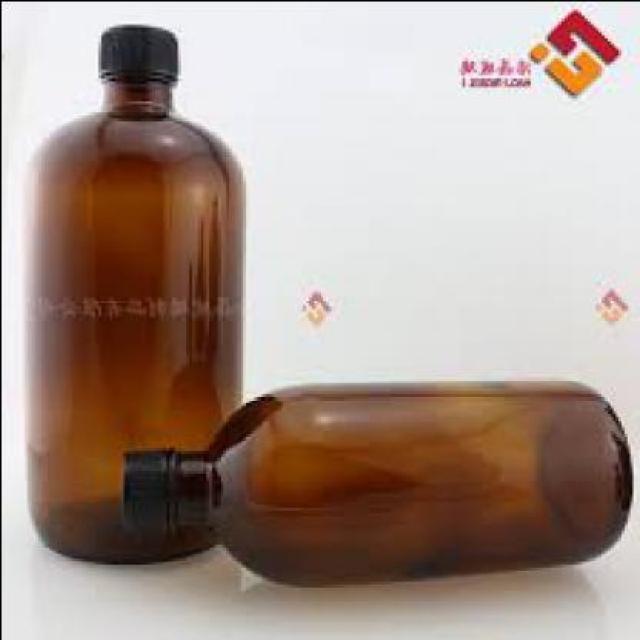GLASS: (28, 74, 250, 557), (176, 375, 635, 583)
PLASTIC: (121, 440, 174, 529), (102, 20, 186, 74)
